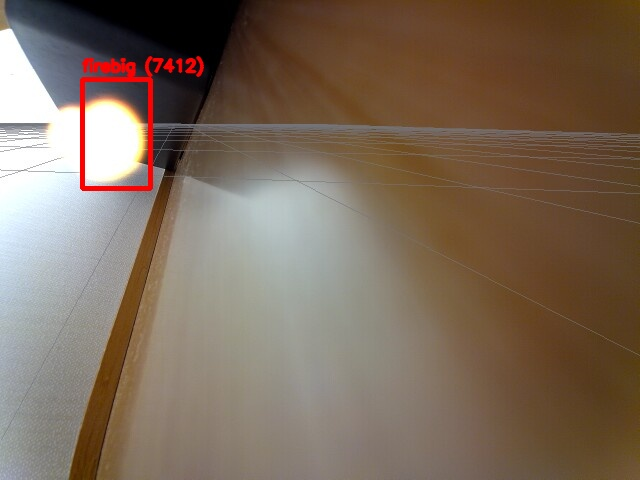firebig: (82, 79, 150, 188)
